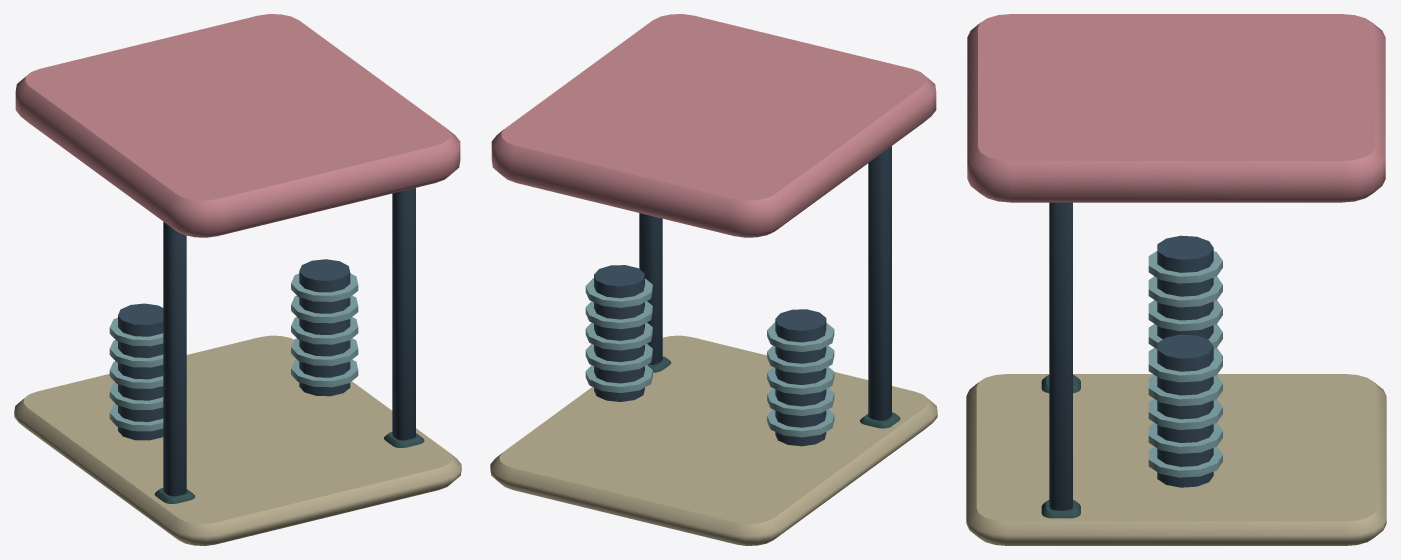
Rendered from luxury_detail_2.glb.
The picture shows the model from 3 angles, left to right: view 1: azimuth 30°, elevation 25°; view 2: azimuth 150°, elevation 25°; view 3: azimuth 270°, elevation 25°; orthographic projection. The views are drawn at different scales.
Parts seen in each view (by area): view 1: LuxuryDetail2; view 2: LuxuryDetail2; view 3: LuxuryDetail2.
Part boxes in pixels (x1,y1,x2,y2): LuxuryDetail2: [14, 14, 461, 545]; LuxuryDetail2: [490, 14, 937, 545]; LuxuryDetail2: [966, 14, 1386, 545].
Bounding box in the file's own units: 2.18 × 2.51 × 2.48.
